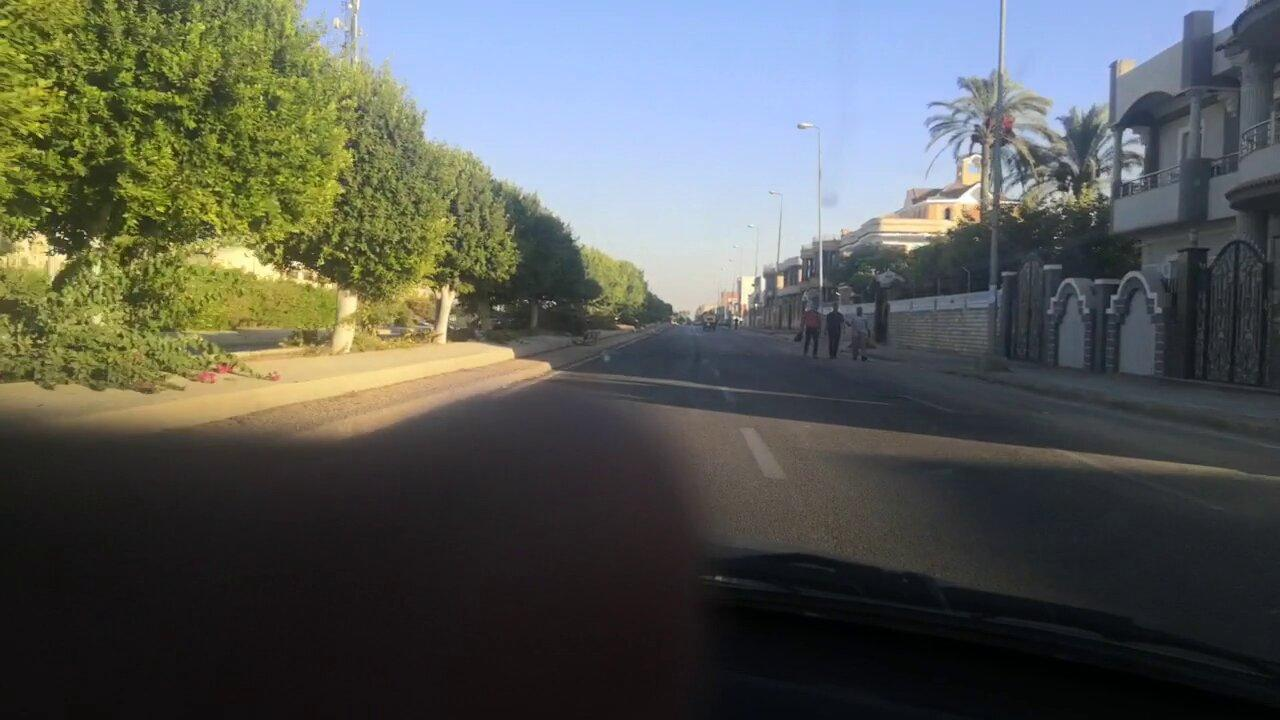Bump: (593, 349, 823, 363)
